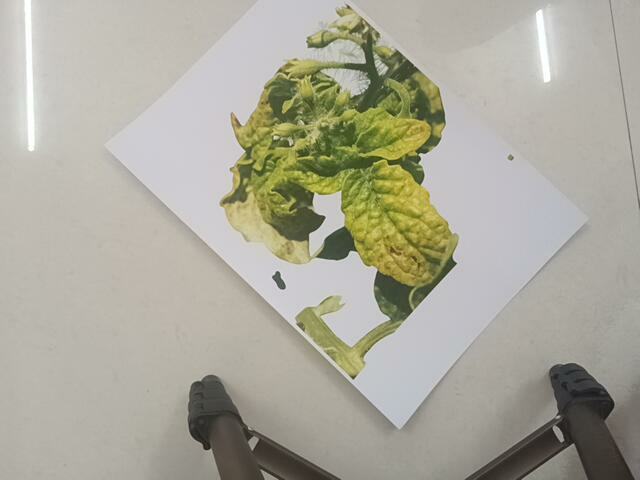Tomamto_Leaf_curl_virus: (220, 9, 484, 379)
